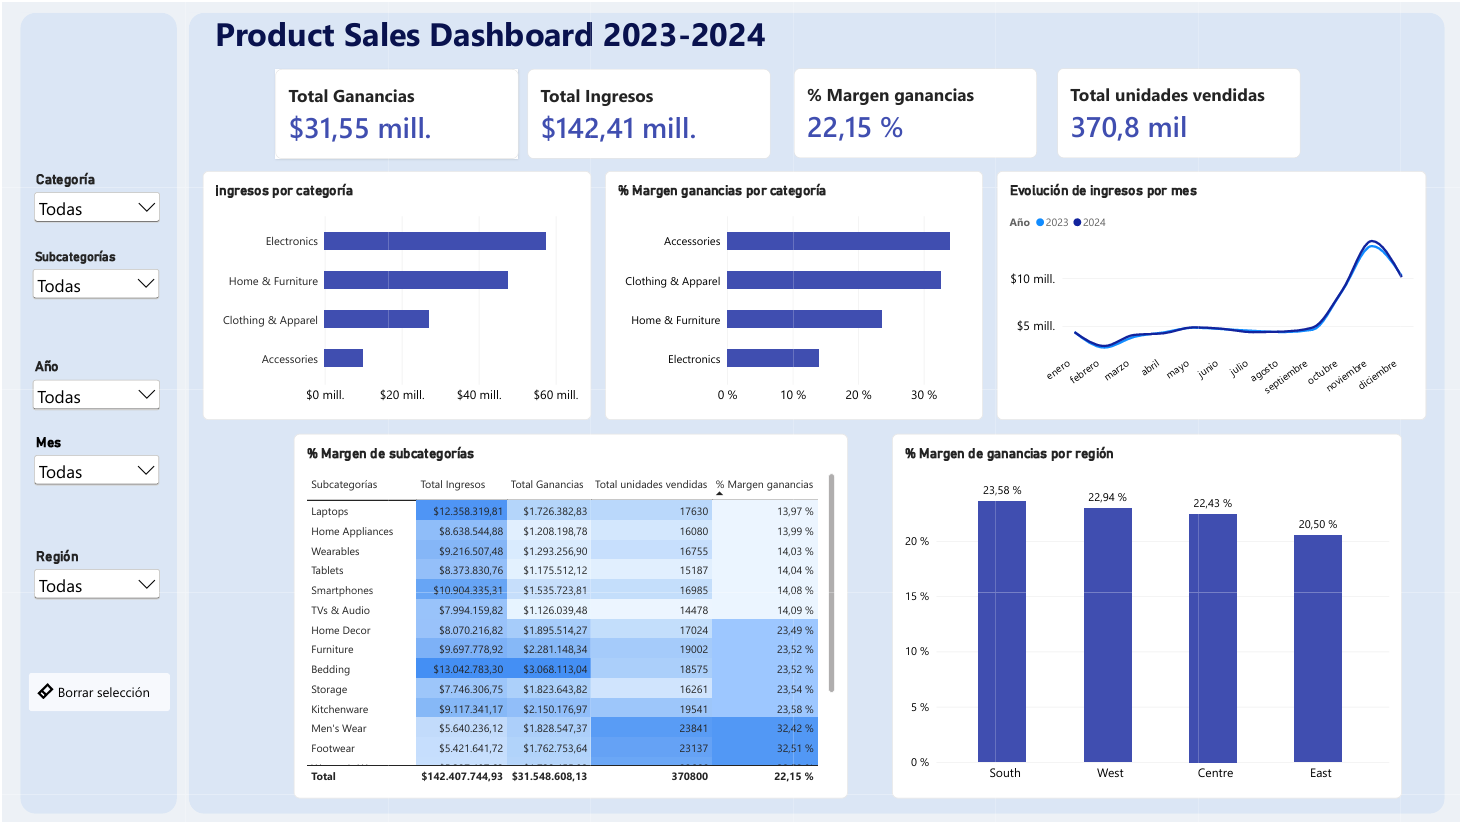

Layout of this report page (visuals, bound fields, positions):
{"tool":"powerbi","page":{"name":"Página 1","canvas":[1920,1080],"ordinal":0},"visuals":[{"type":"shape","box":[246,14,1654,1054],"z":0},{"type":"shape","box":[24,14,206,1054],"z":1000},{"type":"cardVisual","fields":{"Data":["ventas.Total Ganancias"]},"box":[371.4,87.8,320.4,118.4],"z":2000},{"type":"cardVisual","fields":{"Data":["ventas.Total Ingresos"]},"box":[724.5,87.8,320.4,118.4],"z":3000},{"type":"cardVisual","fields":{"Data":["ventas.Margen ganacias %"]},"box":[1077.6,87.8,320.4,118.4],"z":4000},{"type":"slicer","fields":{"Values":["ventas.Año_ventas"]},"box":[36,222,177.6,98],"z":5000},{"type":"slicer","fields":{"Values":["ventas.Category"]},"box":[36,466,175.5,102],"z":6000},{"type":"slicer","fields":{"Values":["ventas.Region"]},"box":[38,704,176,90],"z":7000},{"type":"cardVisual","fields":{"Data":["ventas.Total unidades"]},"box":[1444.9,87.8,320.4,118.4],"z":8000},{"type":"clusteredBarChart","title":"Ingresos por categoría","fields":{"Category":["ventas.Category"],"Y":["ventas.Total Ingresos"]},"box":[264,222,512,328],"z":9000},{"type":"clusteredBarChart","title":"% Margen ganancias por categoría","fields":{"Category":["ventas.Category"],"Y":["ventas.Margen ganancias %"]},"box":[794,222,498,328],"z":10000},{"type":"lineChart","title":"Evolución de ingresos por mes","fields":{"Category":["ventas.Order_Date.Variation.Jerarquía de fechas.Mes"],"Series":["ventas.Año"],"Y":["ventas.Total Ingresos"]},"box":[1310,222,566,328],"z":11000},{"type":"tableEx","title":"% Margen de subcategorías","fields":{"Values":["ventas.Sub_Category","ventas.Total Ingresos","ventas.Total Ganancias","ventas.Total unidades","ventas.Margen ganancias %"]},"box":[412,568,730,480],"z":12000},{"type":"clusteredColumnChart","title":"% Margen de ganancias por región","fields":{"Category":["ventas.Region"],"Y":["ventas.Margen ganancias %"]},"box":[1172,568,672,480],"z":13000},{"type":"textbox","box":[298,12,746,58],"z":14000}]}

Visuals, with their boxes in screenshot pixels (x1, y1, x2, y2), scaled from the page's 1920x1080 canvas onto the 1461x822 screenshot:
shape: x1=187, y1=11, x2=1446, y2=813
shape: x1=18, y1=11, x2=175, y2=813
cardVisual - ventas.Total Ganancias: x1=283, y1=67, x2=526, y2=157
cardVisual - ventas.Total Ingresos: x1=551, y1=67, x2=795, y2=157
cardVisual - ventas.Margen ganacias %: x1=820, y1=67, x2=1064, y2=157
slicer - ventas.Año_ventas: x1=27, y1=169, x2=163, y2=244
slicer - ventas.Category: x1=27, y1=355, x2=161, y2=432
slicer - ventas.Region: x1=29, y1=536, x2=163, y2=604
cardVisual - ventas.Total unidades: x1=1099, y1=67, x2=1343, y2=157
"Ingresos por categoría" clusteredBarChart: x1=201, y1=169, x2=590, y2=419
"% Margen ganancias por categoría" clusteredBarChart: x1=604, y1=169, x2=983, y2=419
"Evolución de ingresos por mes" lineChart: x1=997, y1=169, x2=1428, y2=419
"% Margen de subcategorías" tableEx: x1=314, y1=432, x2=869, y2=798
"% Margen de ganancias por región" clusteredColumnChart: x1=892, y1=432, x2=1403, y2=798
textbox: x1=227, y1=9, x2=794, y2=53
